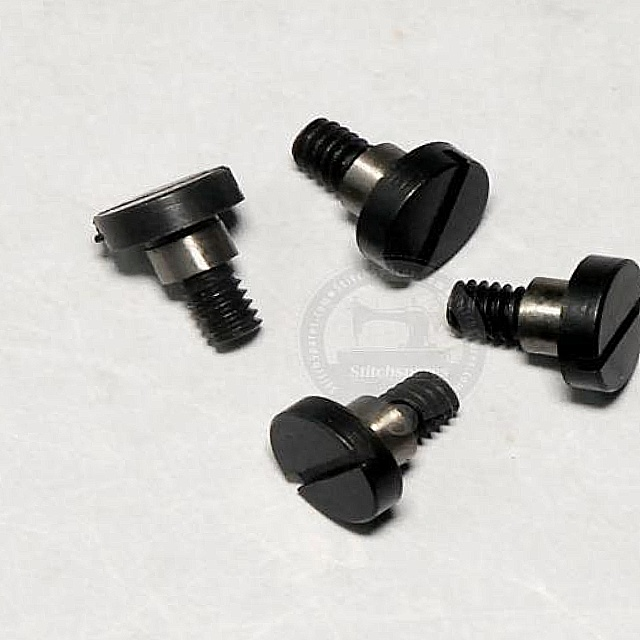duz: (357, 143, 497, 282), (267, 417, 395, 531), (571, 258, 640, 398)
